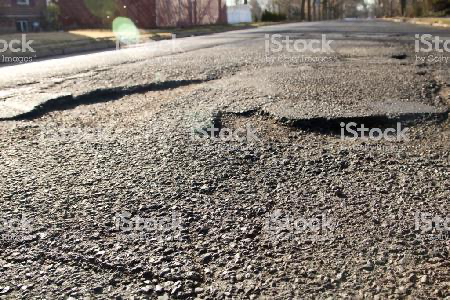pothole: (7, 74, 217, 137), (206, 106, 450, 151)
